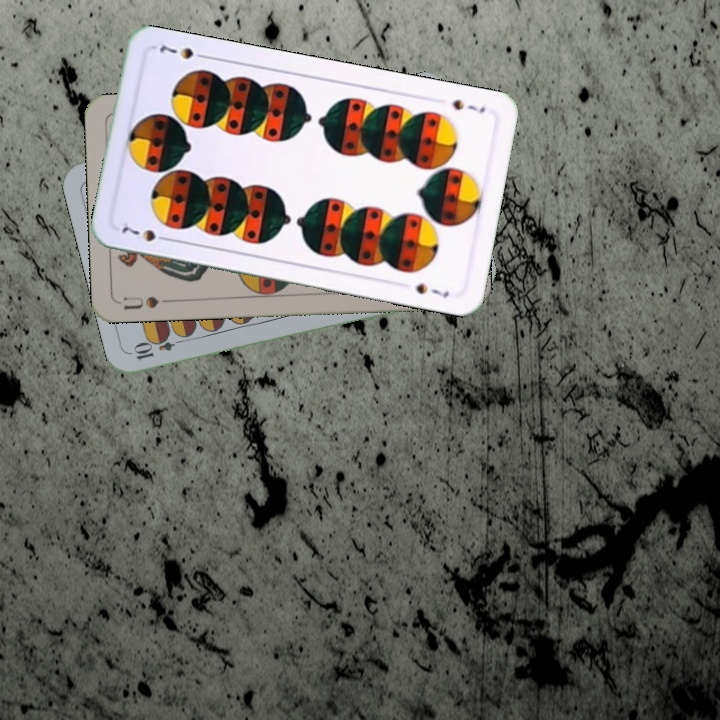E10: (130, 332, 188, 363)
S7: (117, 218, 173, 244), (448, 95, 488, 116)
SU: (116, 292, 175, 313)
